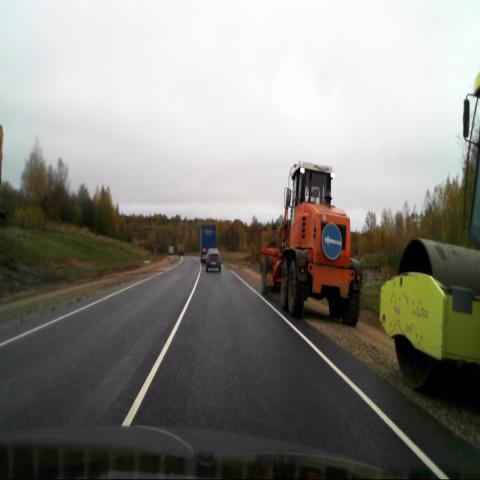4_1_2_2: (322, 223, 342, 259)
